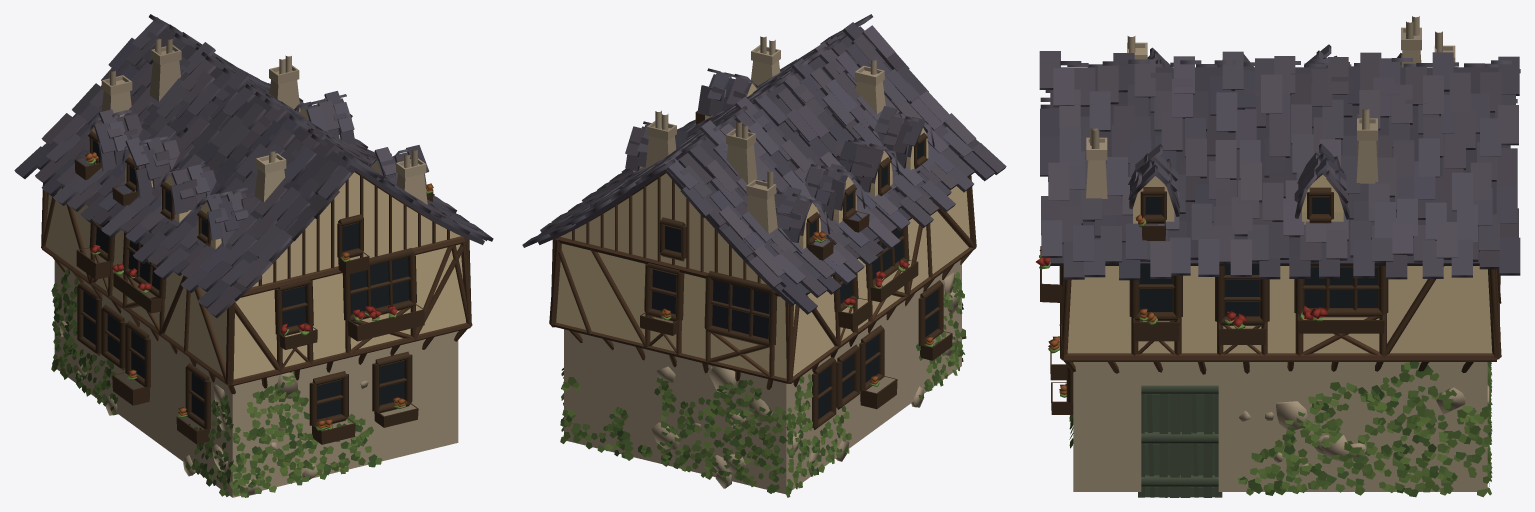
The model's file is house_16.glb.
3 renders of one model, left to right at view 1: azimuth 30°, elevation 25°; view 2: azimuth 150°, elevation 25°; view 3: azimuth 270°, elevation 25°, orthographic. The views are drawn at different scales.
Parts seen in each view (by area): view 1: house_16; view 2: house_16; view 3: house_16.
Part boxes in pixels (x1,y1,x2,y2): house_16: [14, 14, 493, 497]; house_16: [522, 14, 1006, 497]; house_16: [1036, 16, 1520, 497].
Size of the model in its own units: 6 by 6.82 by 7.47.
